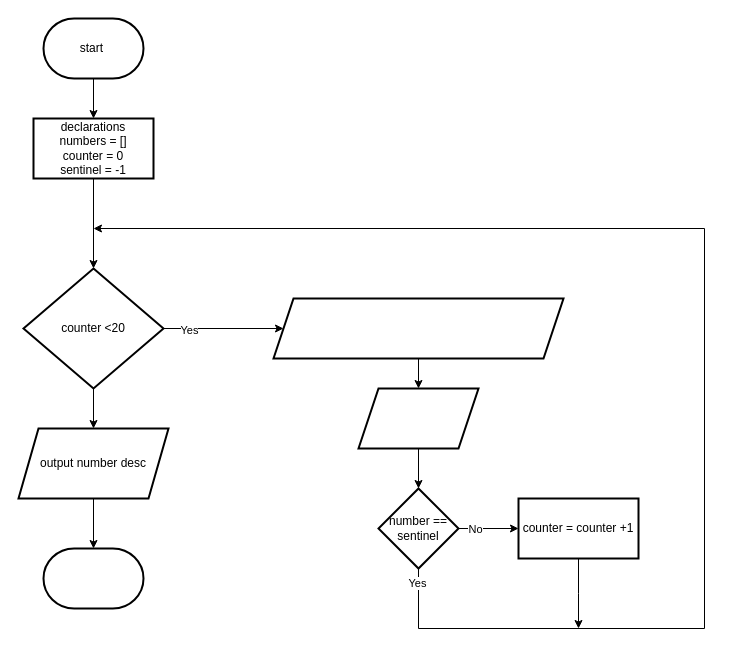
This 730x654 diagram has some shape labels left out. Each missing label, with the box of its shape:
end: (42, 547, 144, 609)
input number: (357, 387, 479, 449)
output "Enter number " + counter "Or enter " + sentinel + "to stop.": (272, 297, 564, 359)
